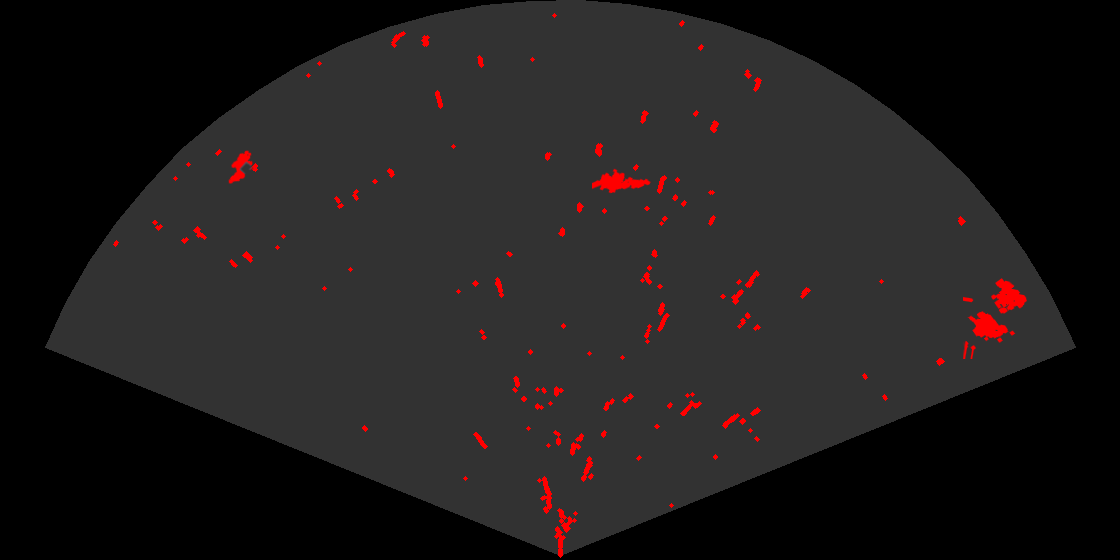AUV: (227, 149, 254, 185)
cage: (963, 277, 1028, 359)
frogman: (592, 167, 653, 195)
